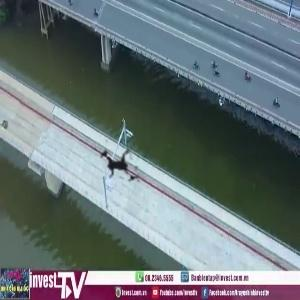drone: (79, 122, 165, 208)
